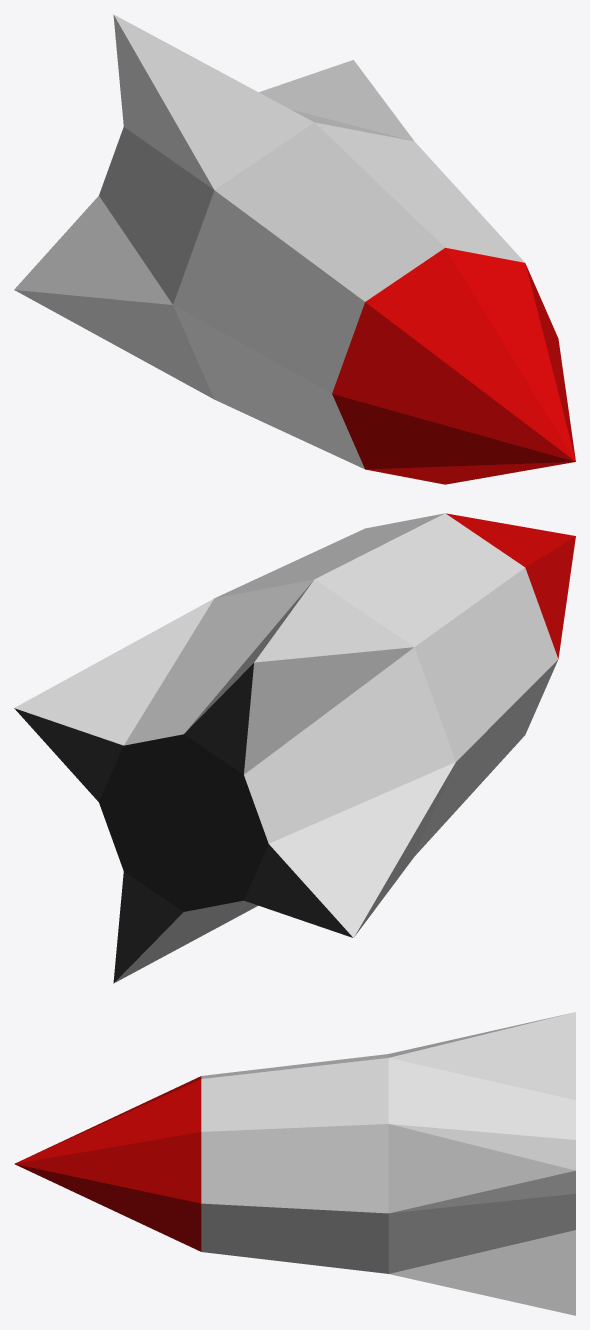
Rendered from Rocket.fbx.
The picture shows the model from 3 angles, top to bottom: view 1: azimuth 30°, elevation 25°; view 2: azimuth 150°, elevation 25°; view 3: azimuth 270°, elevation 25°; orthographic projection. The views are drawn at different scales.
Parts seen in each view (by area): view 1: Rocket; view 2: Rocket; view 3: Rocket.
Boxes of the visible parts, left/top/right/bottom form: Rocket: left=14, top=14, right=575, bottom=484; Rocket: left=14, top=513, right=575, bottom=983; Rocket: left=14, top=1012, right=575, bottom=1315.
Bounding box in the file's own units: 60 × 60 × 120.
